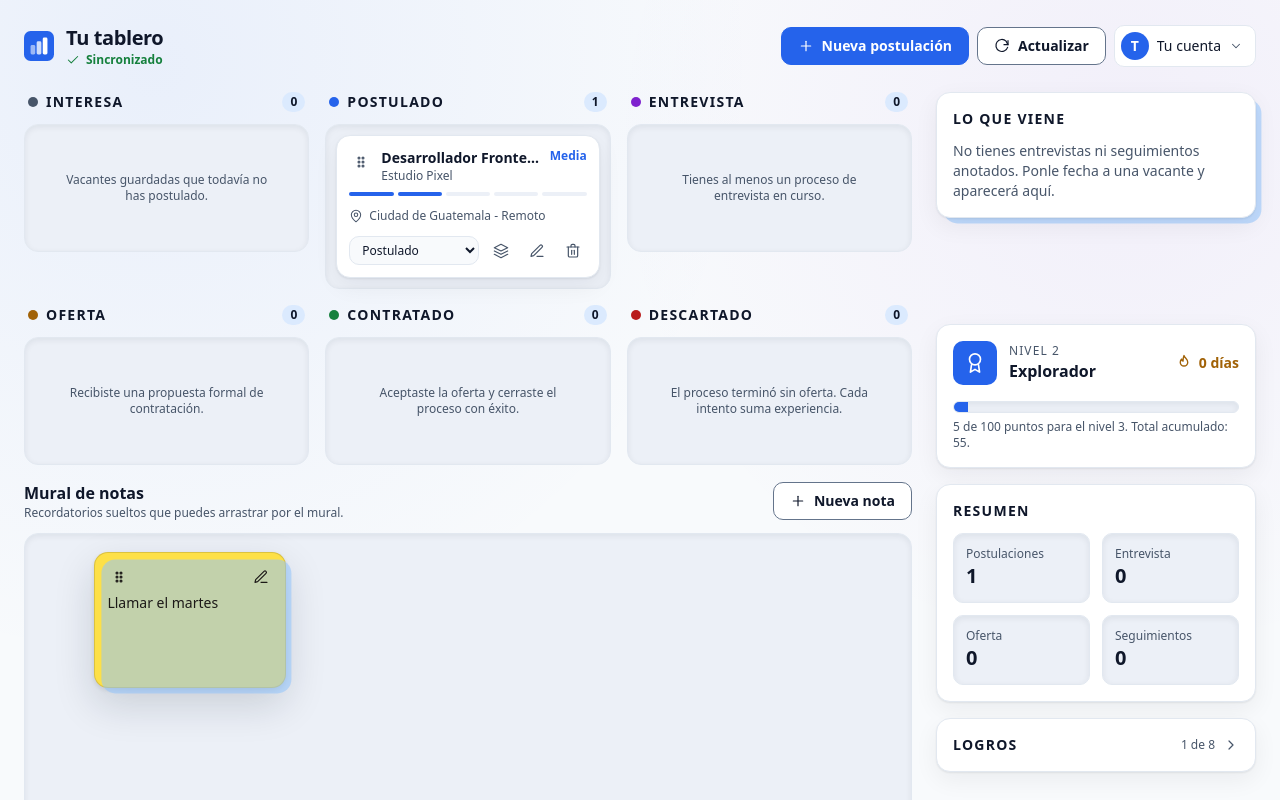
Test: BoardWorkspace (integracion) › elimina una nota desde su editor
Click the button named "Editar la nota: Llamar el martes" at (261, 577), box top-left (249, 565), bottom-right (273, 589)
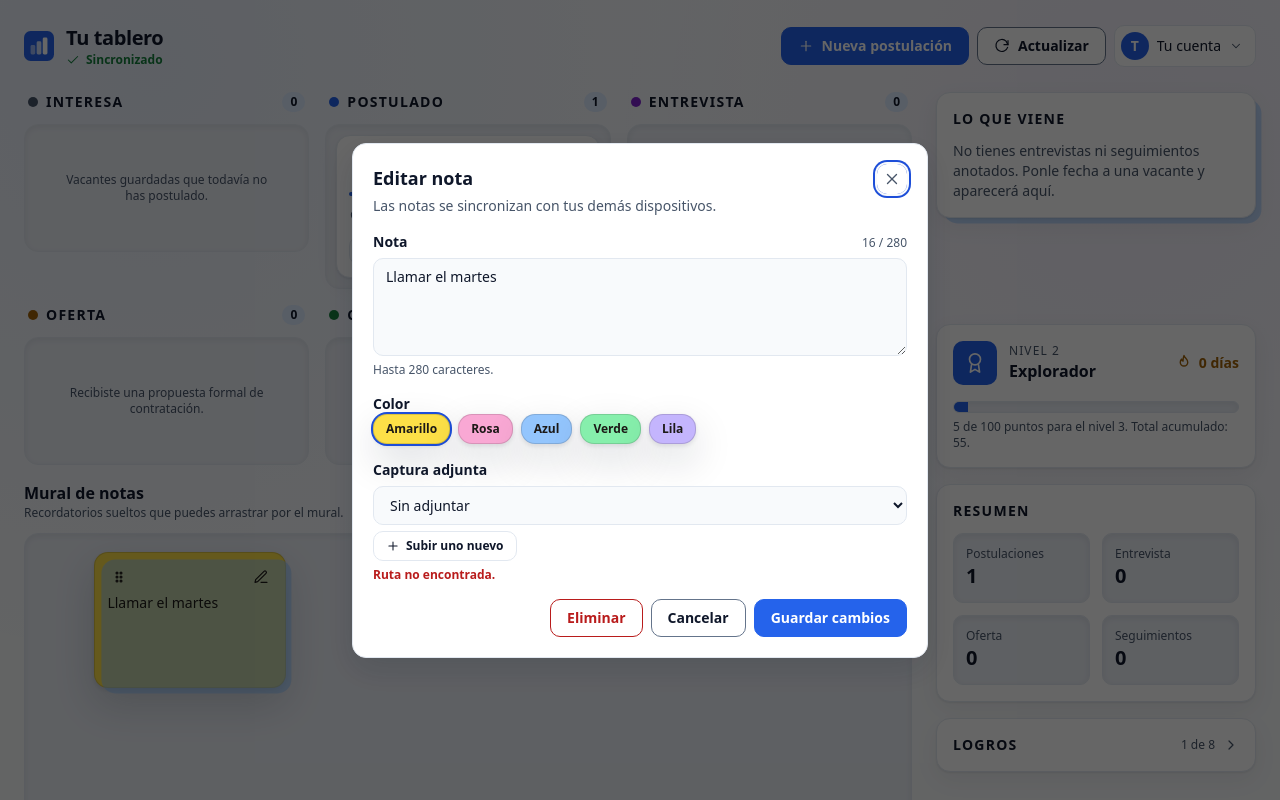
Click the button "Eliminar" at (596, 618), box top-left (550, 598), bottom-right (642, 636)
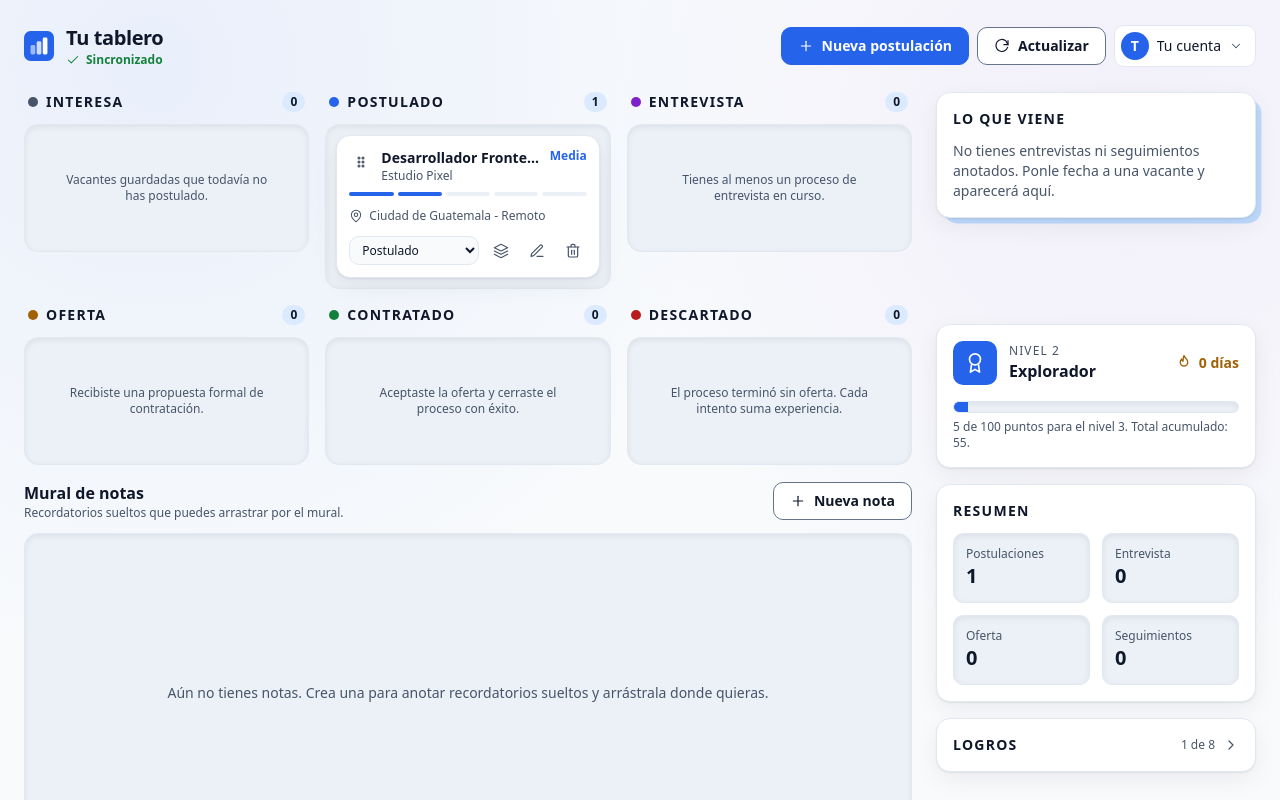
Result: the text "Llamar el martes" is gone
